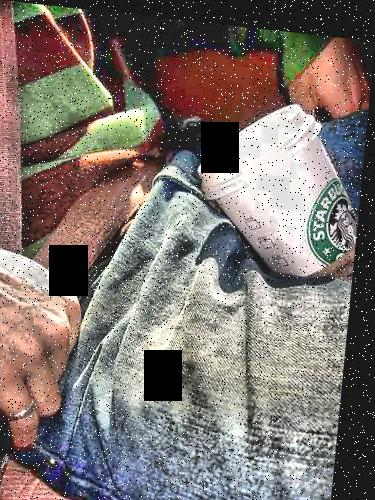seatbelt: (20, 127, 189, 324), (0, 29, 47, 265)
